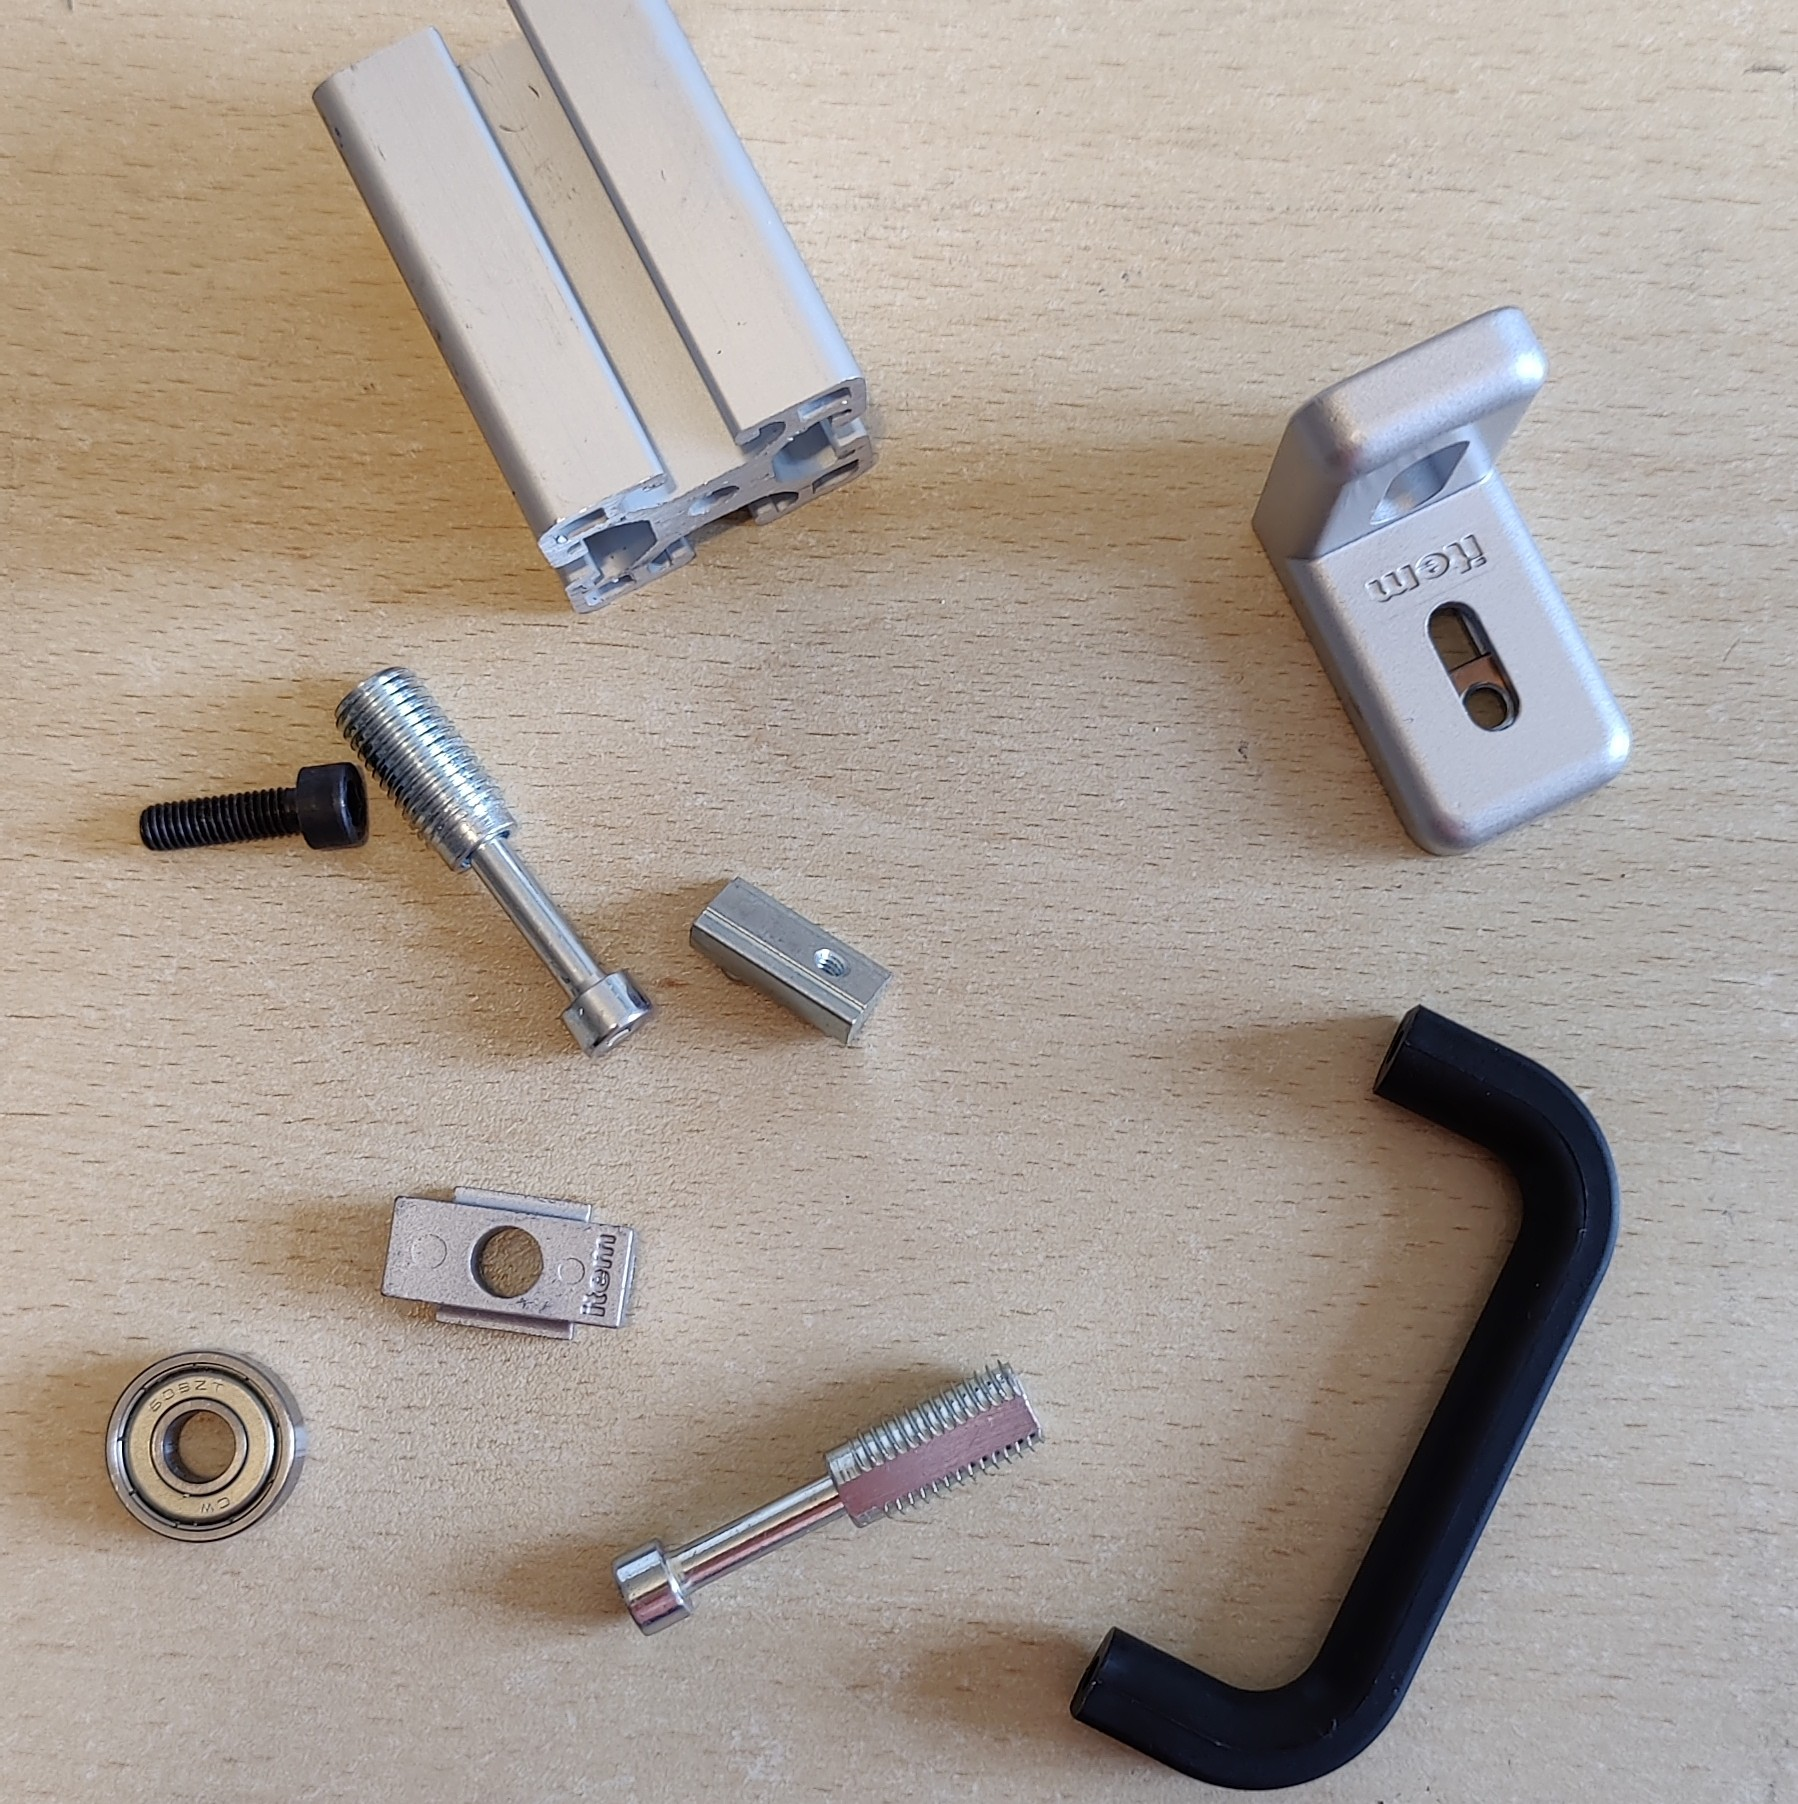Aluminium Extension: (310, 2, 879, 619)
Ball Bearing: (102, 1348, 310, 1546)
Multiwinkel: (1246, 303, 1635, 859)
Pull Handle: (1065, 1002, 1623, 1796)
Shoulder Socket Head Cap Screw: (333, 662, 662, 1067), (611, 1356, 1047, 1638)
Socket Head Cap Screw: (137, 757, 372, 858)
T Nut Square: (379, 1179, 644, 1348)
T Spring Nut: (685, 872, 896, 1048)
